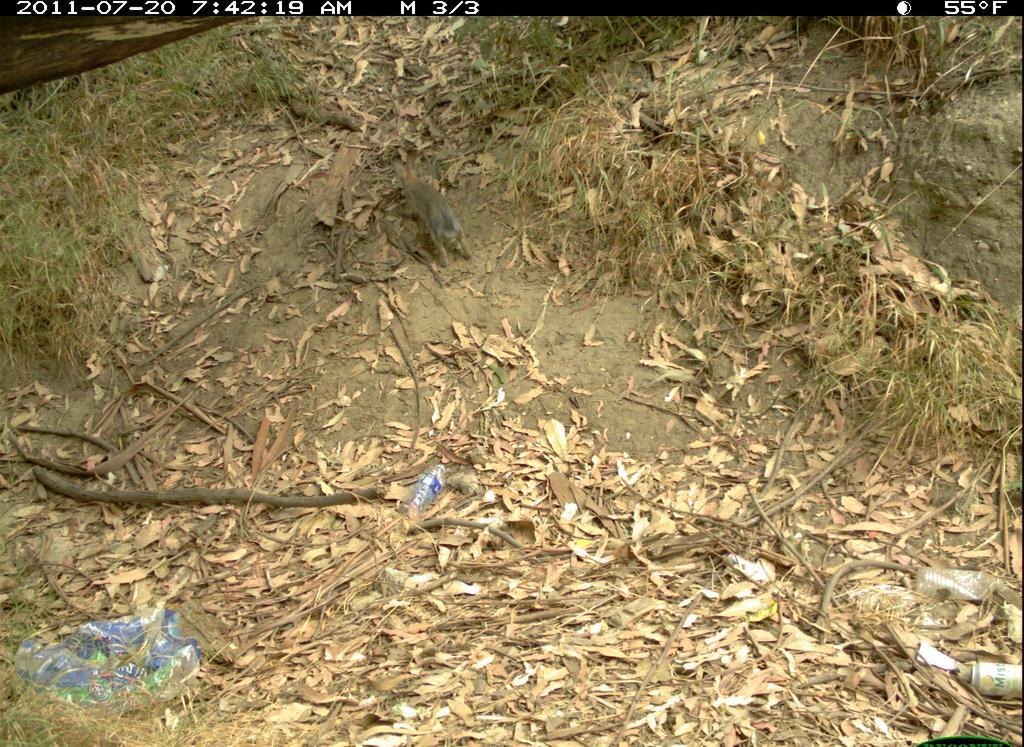rabbit: (383, 137, 481, 274)
